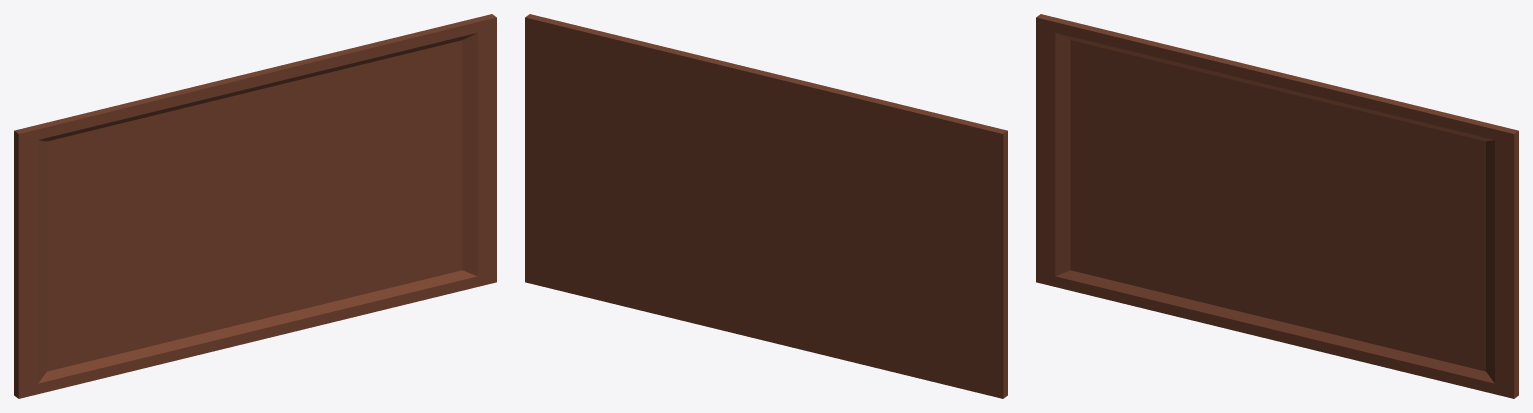
The model's file is marco.fbx.
The picture shows the model from 3 angles, left to right: view 1: azimuth 30°, elevation 25°; view 2: azimuth 150°, elevation 25°; view 3: azimuth 330°, elevation 25°; orthographic projection.
Visible parts, largest first — view 1: Marco; view 2: Marco; view 3: Marco.
Boxes of the visible parts, left/top/right/bottom form: Marco: left=14, top=14, right=496, bottom=398; Marco: left=525, top=14, right=1007, bottom=398; Marco: left=1036, top=14, right=1518, bottom=398.
Size of the model in its own units: 8.32 by 4.41 by 0.1424.
